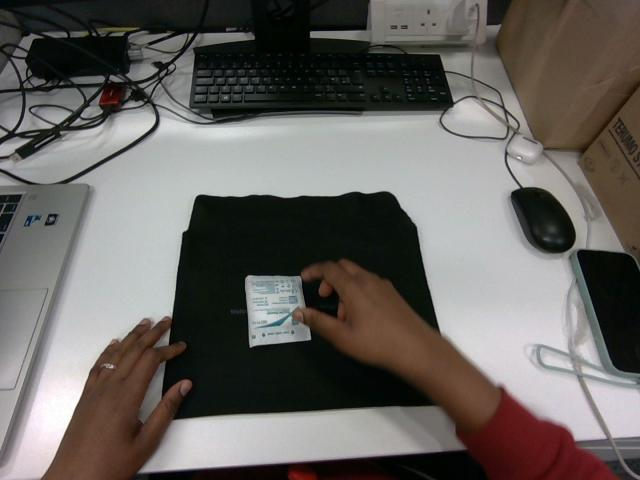gauze: (245, 275, 310, 347)
